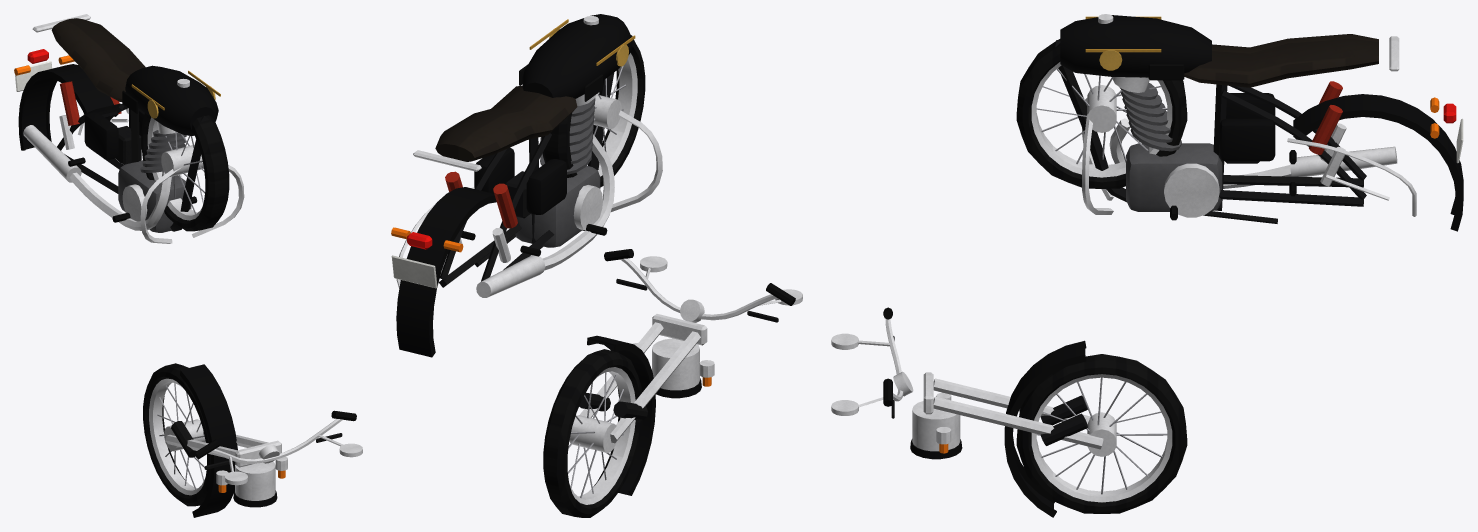
Rendered from PhatphatiBike.fbx.
The picture shows the model from 3 angles, left to right: view 1: azimuth 30°, elevation 25°; view 2: azimuth 150°, elevation 25°; view 3: azimuth 270°, elevation 25°; orthographic projection. The views are drawn at different scales.
Parts seen in each view (by area): view 1: Body_LOD0, Steering_Pivot_Mesh_LOD0, Wheel_R_Mesh_LOD0, Wheel_F_Mesh_LOD0; view 2: Body_LOD0, Steering_Pivot_Mesh_LOD0, Wheel_F_Mesh_LOD0, Wheel_R_Mesh_LOD0; view 3: Body_LOD0, Steering_Pivot_Mesh_LOD0, Wheel_F_Mesh_LOD0, Wheel_R_Mesh_LOD0.
Boxes of the visible parts, x1,y1,x2,y2 form: Body_LOD0: [14, 14, 244, 243]; Steering_Pivot_Mesh_LOD0: [165, 364, 362, 517]; Wheel_R_Mesh_LOD0: [141, 113, 229, 231]; Wheel_F_Mesh_LOD0: [143, 363, 210, 506]; Body_LOD0: [391, 14, 662, 357]; Steering_Pivot_Mesh_LOD0: [579, 249, 802, 495]; Wheel_F_Mesh_LOD0: [543, 349, 642, 517]; Wheel_R_Mesh_LOD0: [541, 34, 645, 187]; Body_LOD0: [1055, 14, 1463, 231]; Steering_Pivot_Mesh_LOD0: [831, 307, 1103, 517]; Wheel_F_Mesh_LOD0: [1016, 354, 1187, 513]; Wheel_R_Mesh_LOD0: [1016, 39, 1187, 188].
Size of what is drawn, in the model's own units: 0.8658 by 2.15 by 2.5.
